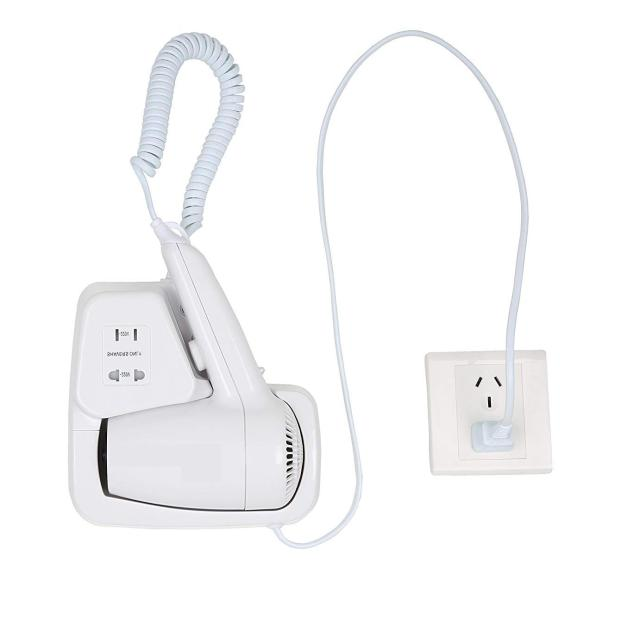dryer: (43, 15, 598, 582), (56, 27, 339, 548), (66, 215, 316, 534)
